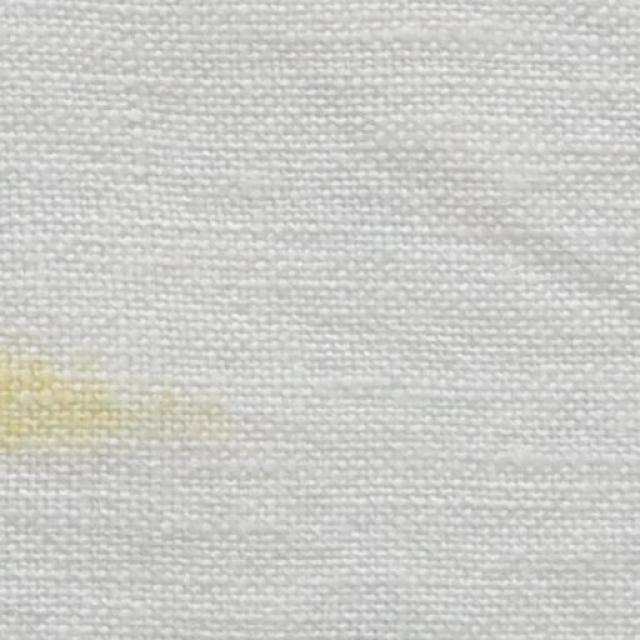Stain: (0, 333, 232, 452)
